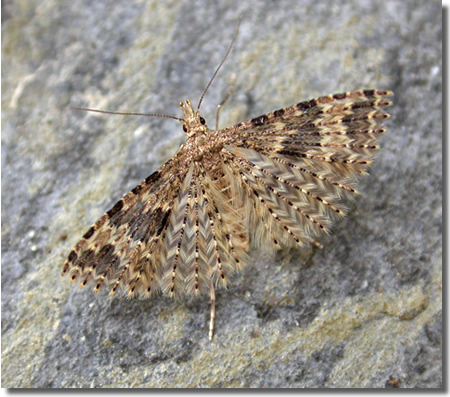Alucitidae: (52, 27, 393, 340)
moth: (50, 25, 391, 338)
